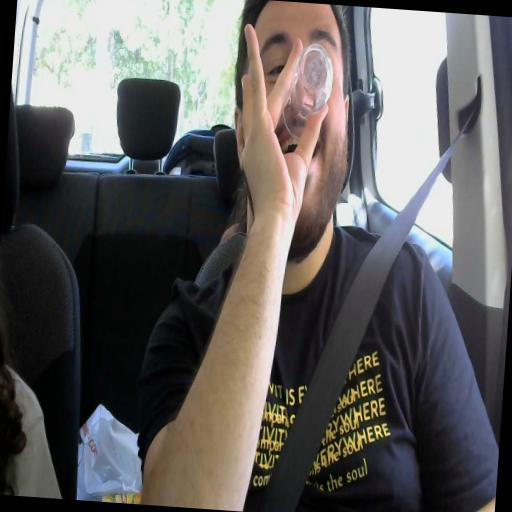Drinking: (233, 0, 350, 253)
